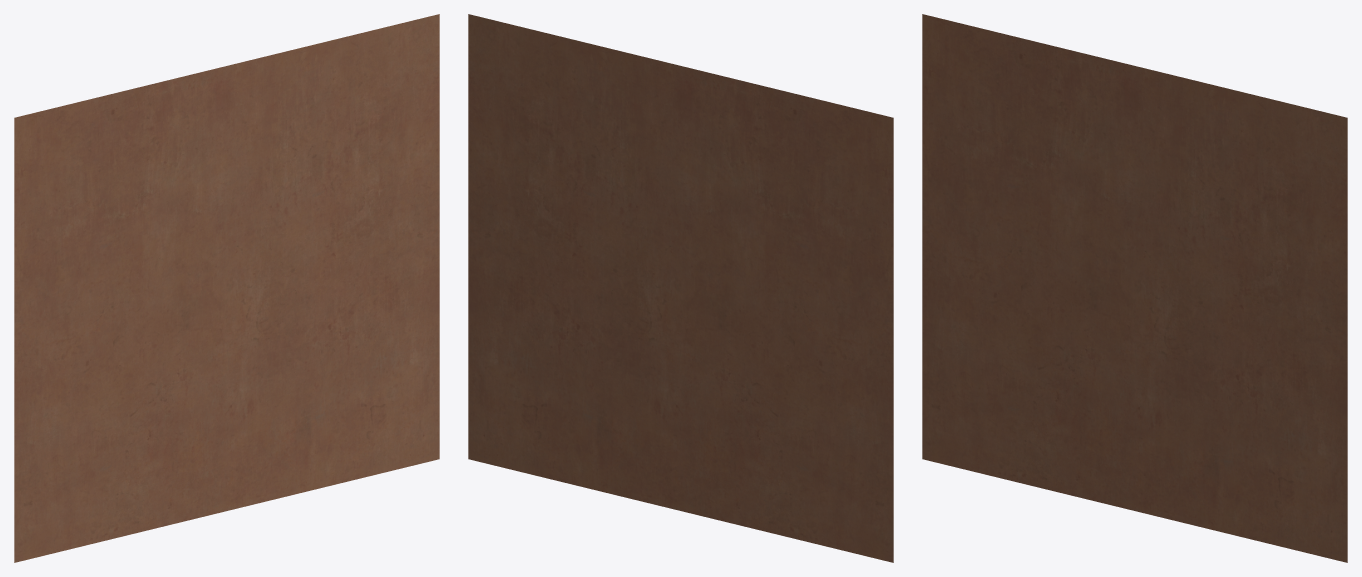
File: bay_blank.gltf
3 renders of one model, left to right at view 1: azimuth 30°, elevation 25°; view 2: azimuth 150°, elevation 25°; view 3: azimuth 330°, elevation 25°, orthographic.
Visible parts, largest first — view 1: bay_blank; view 2: bay_blank; view 3: bay_blank.
Boxes of the visible parts, <box> form: bay_blank: <box>14,14,439,562</box>; bay_blank: <box>468,14,893,562</box>; bay_blank: <box>922,14,1347,562</box>.
Size of the model in its own units: 3 by 3 by 0.
Materials: 1 (1 with a texture image).
